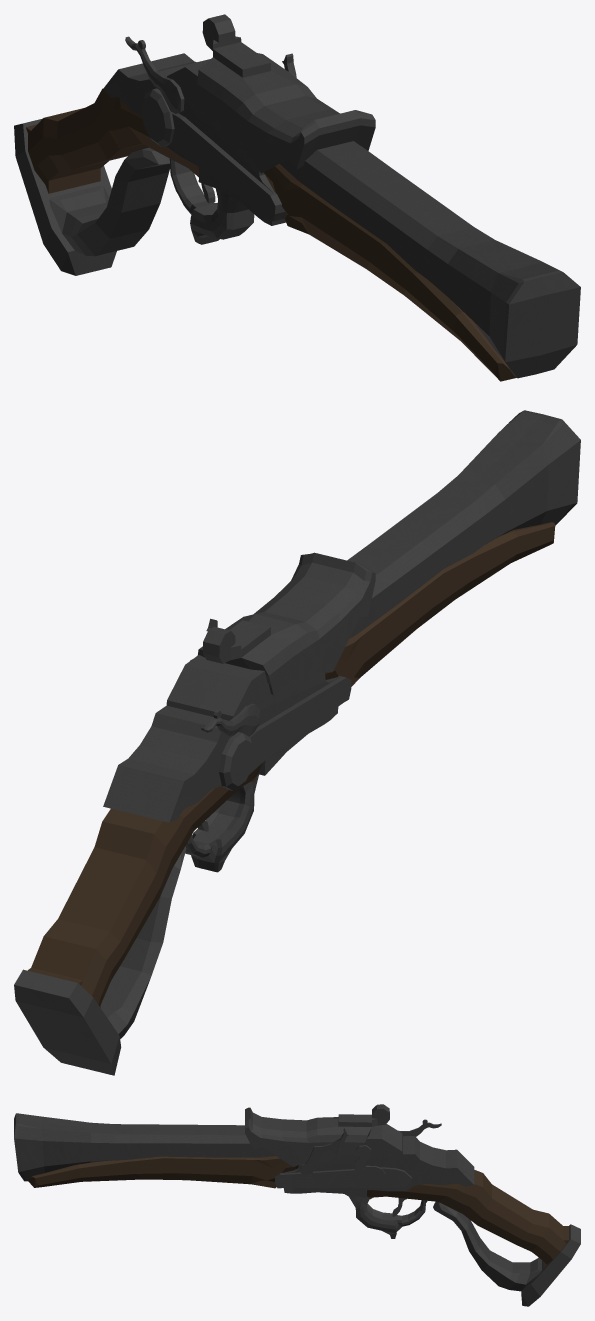
The model's file is hunter_pistol.obj.
The picture shows the model from 3 angles, top to bottom: view 1: azimuth 30°, elevation 25°; view 2: azimuth 150°, elevation 25°; view 3: azimuth 270°, elevation 25°; orthographic projection. The views are drawn at different scales.
Parts seen in each view (by area): view 1: iron_part_1_Circle.008, iron_part_2_Circle.005, wooden_part_2_Circle.004, wooden_part_1_Circle.003; view 2: iron_part_1_Circle.008, iron_part_2_Circle.005, wooden_part_1_Circle.003, wooden_part_2_Circle.004; view 3: iron_part_1_Circle.008, iron_part_2_Circle.005, wooden_part_1_Circle.003, wooden_part_2_Circle.004.
Part boxes in pixels (<box>): iron_part_1_Circle.008: <box>14,14,375,275</box>; iron_part_2_Circle.005: <box>279,141,580,378</box>; wooden_part_2_Circle.004: <box>264,164,516,381</box>; wooden_part_1_Circle.003: <box>26,88,202,193</box>; iron_part_1_Circle.008: <box>14,552,375,1075</box>; iron_part_2_Circle.005: <box>347,410,580,638</box>; wooden_part_1_Circle.003: <box>28,763,262,1007</box>; wooden_part_2_Circle.004: <box>325,522,555,686</box>; iron_part_1_Circle.008: <box>245,1104,580,1306</box>; iron_part_2_Circle.005: <box>14,1113,275,1181</box>; wooden_part_1_Circle.003: <box>367,1170,569,1267</box>; wooden_part_2_Circle.004: <box>28,1156,298,1188</box>.
Bounding box in the file's own units: 0.6026 × 2.31 × 6.09.
